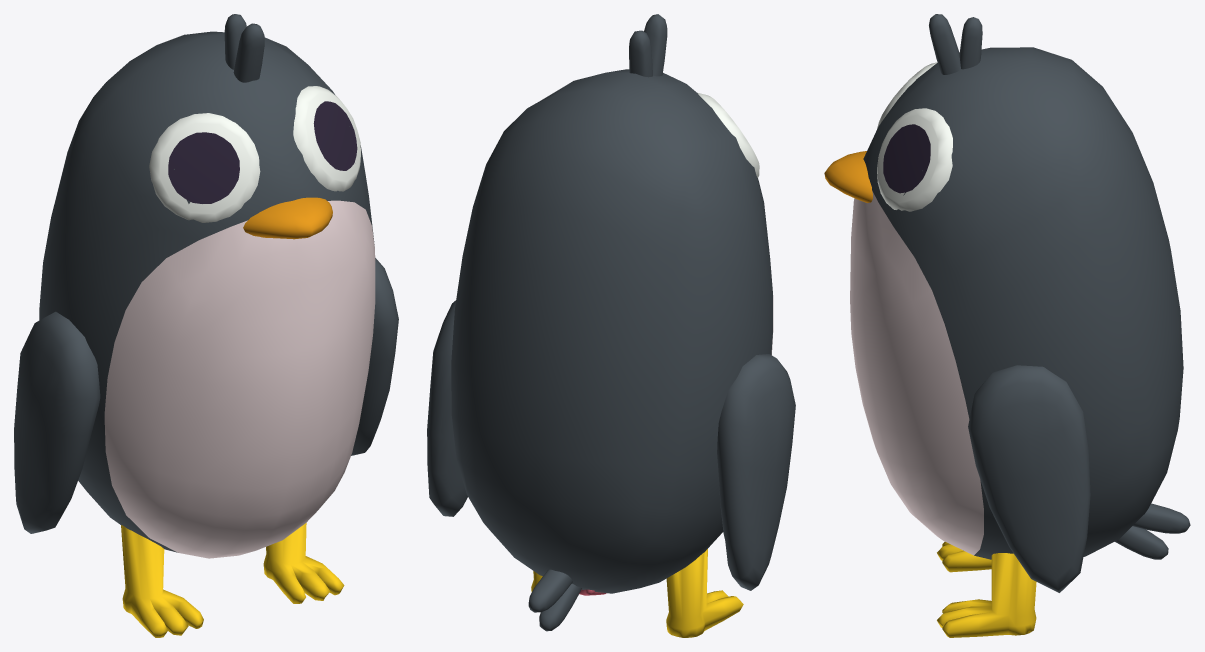
File: penguin.glb
The picture shows the model from 3 angles, left to right: view 1: azimuth 30°, elevation 25°; view 2: azimuth 150°, elevation 25°; view 3: azimuth 270°, elevation 25°; orthographic projection. The views are drawn at different scales.
Visible parts, largest first — view 1: Penguin_LOD0; view 2: Penguin_LOD0; view 3: Penguin_LOD0.
Part boxes in pixels (x1,y1,x2,y2): Penguin_LOD0: (14,14,398,637); Penguin_LOD0: (427,14,795,637); Penguin_LOD0: (824,14,1190,637).
Bounding box in the file's own units: 116 × 189 × 108.
Materials: 1 (1 with a texture image).
